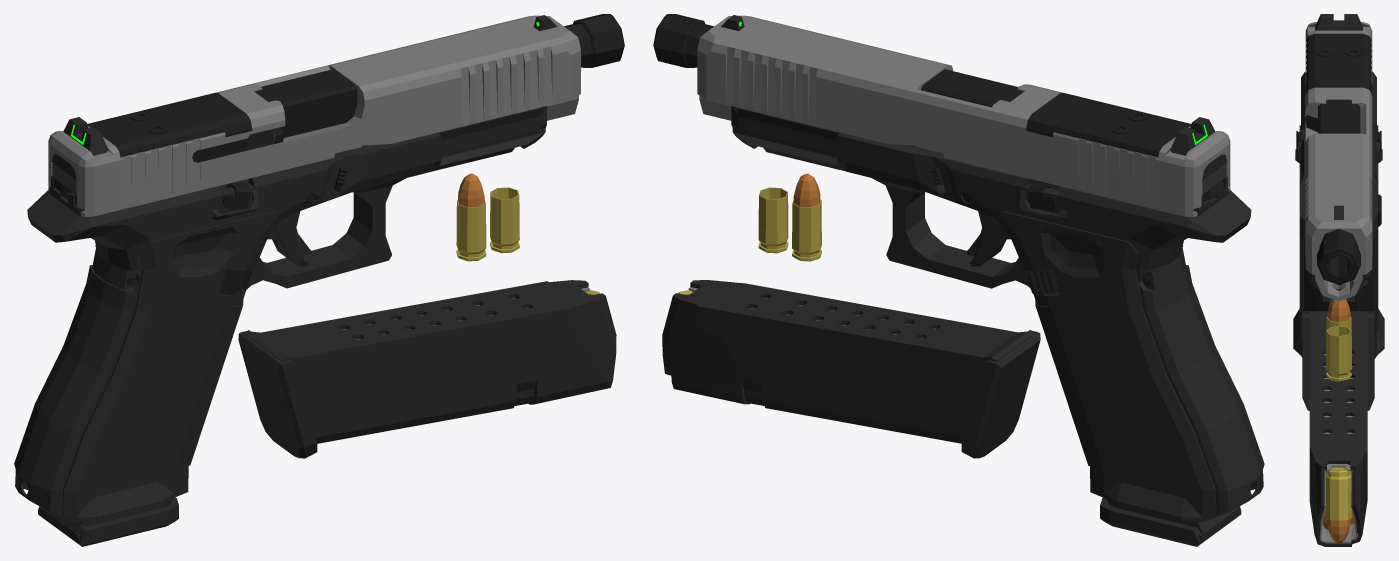
Rendered from low-poly_g17_gen6.glb.
The picture shows the model from 3 angles, left to right: view 1: azimuth 30°, elevation 25°; view 2: azimuth 150°, elevation 25°; view 3: azimuth 270°, elevation 25°; orthographic projection. The views are drawn at different scales.
Parts seen in each view (by area): view 1: g17g6 frame_3, g17 17rnd mag_2, g17g6 slide_0, g17g6 cover_8, g17 barrel threaded_1, g17 17rnd empty mag_4, 919 case_6, g17 muzzle nut_7, Object_23, g17g6 trigga_9, Object_24; view 2: g17g6 frame_3, g17 17rnd mag_2, g17g6 slide_0, g17g6 cover_8, g17 17rnd empty mag_4, g17 barrel threaded_1, 919 case_6, g17 muzzle nut_7, Object_23, g17g6 trigga_9, Object_24; view 3: g17 17rnd mag_2, g17g6 slide_0, g17g6 frame_3, g17g6 cover_8, g17 barrel threaded_1, 919 case_6, g17 muzzle nut_7, Object_24, g17g6 slide stop_10, Object_23.
Part boxes in pixels (box(x1,y1,x2,y2)): g17g6 frame_3: box(14, 106, 546, 521); g17 17rnd mag_2: box(238, 280, 616, 458); g17g6 slide_0: box(48, 15, 580, 216); g17g6 cover_8: box(87, 93, 252, 157); g17 barrel threaded_1: box(255, 23, 592, 137); g17 17rnd empty mag_4: box(38, 179, 248, 546); 919 case_6: box(490, 187, 519, 253); g17 muzzle nut_7: box(573, 14, 624, 67); Object_23: box(456, 199, 486, 261); g17g6 trigga_9: box(267, 211, 311, 266); Object_24: box(458, 173, 484, 207); g17g6 frame_3: box(731, 106, 1264, 521); g17 17rnd mag_2: box(662, 280, 1040, 458); g17g6 slide_0: box(697, 15, 1230, 217); g17g6 cover_8: box(1026, 93, 1191, 157); g17 17rnd empty mag_4: box(1030, 179, 1241, 546); g17 barrel threaded_1: box(685, 23, 1023, 107); 919 case_6: box(758, 187, 788, 253); g17 muzzle nut_7: box(653, 14, 705, 67); Object_23: box(792, 200, 821, 261); g17g6 trigga_9: box(966, 211, 1010, 266); Object_24: box(793, 173, 820, 207); g17 17rnd mag_2: box(1302, 311, 1374, 546); g17g6 slide_0: box(1305, 14, 1372, 301); g17g6 frame_3: box(1293, 71, 1384, 358); g17g6 cover_8: box(1305, 33, 1372, 95); g17 barrel threaded_1: box(1318, 100, 1360, 280); 919 case_6: box(1326, 326, 1351, 381); g17 muzzle nut_7: box(1317, 234, 1360, 284); Object_24: box(1327, 299, 1350, 322); g17g6 slide stop_10: box(1296, 131, 1381, 153); Object_23: box(1326, 317, 1351, 347).
Size of the model in its own units: 2.18 by 1.42 by 0.3481.
